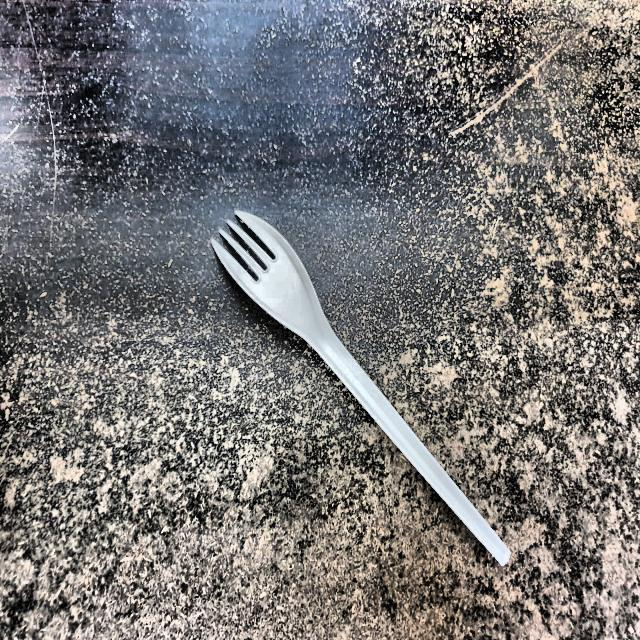plastic utensil: (213, 207, 522, 568)
